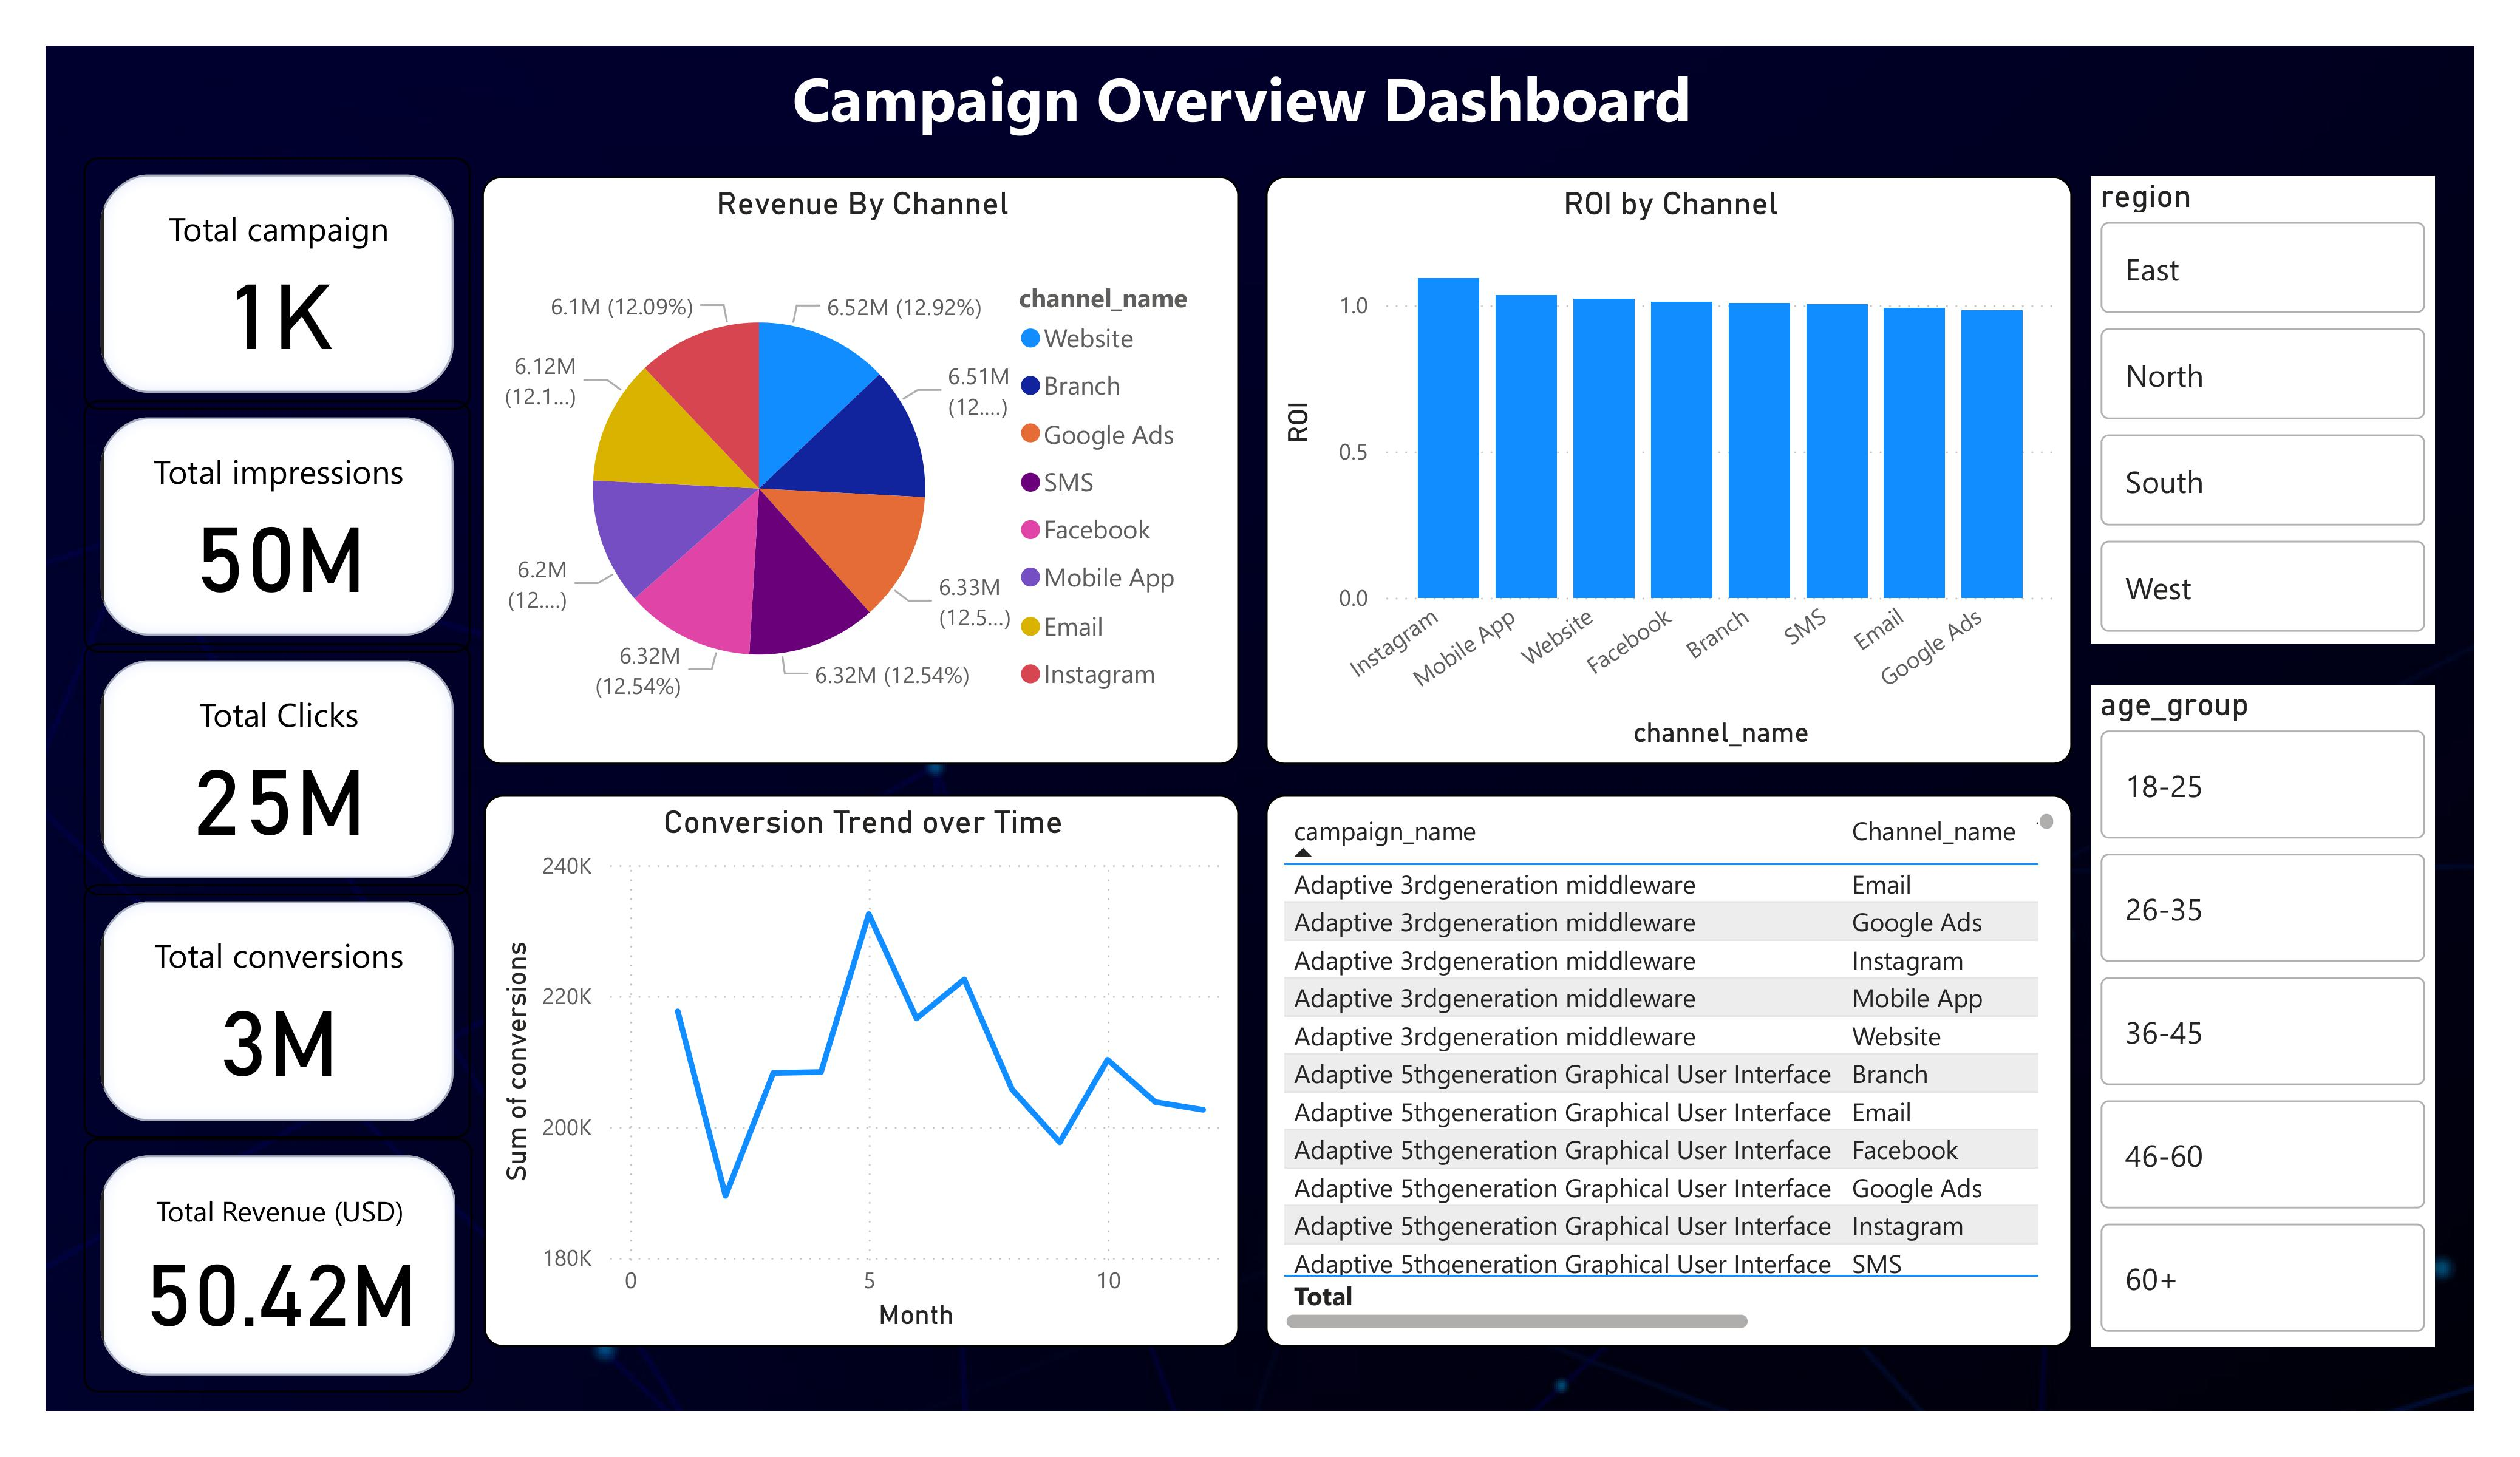

What the dashboard file says about the page in this screenshot:
{"tool":"powerbi","page":{"name":"Campaign Overview Dashboard","canvas":[1280,720],"ordinal":0},"visuals":[{"type":"cardVisual","fields":{"Data":["Count(Fact_CampaignPerformance.campaign_id)"]},"box":[20,59.2,204.3,133.3],"z":0},{"type":"cardVisual","fields":{"Data":["Sum(Fact_CampaignPerformance.impressions)"]},"box":[20,186.6,204.3,133.3],"z":1000},{"type":"cardVisual","fields":{"Data":["Sum(Fact_CampaignPerformance.clicks)"]},"box":[20,315,204.3,133.3],"z":2000},{"type":"cardVisual","fields":{"Data":["Sum(Fact_CampaignPerformance.conversions)"]},"box":[20,442.4,204.3,133.3],"z":3000},{"type":"cardVisual","fields":{"Data":["Sum(Fact_CampaignPerformance.revenue_usd)"]},"box":[20,576.4,204.5,133.6],"z":4000},{"type":"textbox","box":[370.9,0,537.3,64.5],"z":5000},{"type":"clusteredColumnChart","title":"ROI by Channel","fields":{"Category":["Dim_Channels.channel_name"],"Y":["Fact_CampaignPerformance.ROI"]},"box":[643.5,68.9,424.1,310.3],"z":6000},{"type":"lineChart","title":"Conversion Trend over Time","fields":{"Category":["Dim_Date.month"],"Y":["Sum(Fact_CampaignPerformance.conversions)"]},"box":[230.9,394.5,398.2,291.8],"z":7000},{"type":"pieChart","title":"Revenue By Channel","fields":{"Y":["Sum(Fact_CampaignPerformance.revenue_usd)"],"Category":["Dim_Channels.channel_name"]},"box":[230.1,68.9,398.8,310.3],"z":8000},{"type":"tableEx","fields":{"Values":["Dim_Campaigns.campaign_name","Dim_Channels.channel_name","Sum(Fact_CampaignPerformance.spend_usd)","Sum(Fact_CampaignPerformance.ROI%)","Sum(Fact_CampaignPerformance.revenue_usd)"]},"box":[643.5,394.7,424.1,290.8],"z":9000},{"type":"advancedSlicerVisual","fields":{"Values":["Dim_Customers.region"]},"box":[1078.2,68.9,180.9,246.1],"z":10000},{"type":"advancedSlicerVisual","fields":{"Values":["Dim_Customers.age_group"]},"box":[1078.2,337.4,180.9,348.2],"z":11000}]}

Visuals, with their boxes in screenshot pixels (x1, y1, x2, y2):
cardVisual - Count(Fact_CampaignPerformance.campaign_id): bbox=[97, 157, 479, 406]
cardVisual - Sum(Fact_CampaignPerformance.impressions): bbox=[97, 395, 479, 645]
cardVisual - Sum(Fact_CampaignPerformance.clicks): bbox=[97, 636, 479, 885]
cardVisual - Sum(Fact_CampaignPerformance.conversions): bbox=[97, 874, 479, 1124]
cardVisual - Sum(Fact_CampaignPerformance.revenue_usd): bbox=[97, 1125, 480, 1375]
textbox: bbox=[754, 46, 1760, 167]
"ROI by Channel" clusteredColumnChart: bbox=[1264, 175, 2059, 756]
"Conversion Trend over Time" lineChart: bbox=[491, 784, 1237, 1331]
"Revenue By Channel" pieChart: bbox=[490, 175, 1237, 756]
tableEx - Dim_Campaigns.campaign_name x Dim_Channels.channel_name: bbox=[1264, 785, 2059, 1330]
advancedSlicerVisual - Dim_Customers.region: bbox=[2078, 175, 2417, 636]
advancedSlicerVisual - Dim_Customers.age_group: bbox=[2078, 678, 2417, 1330]
